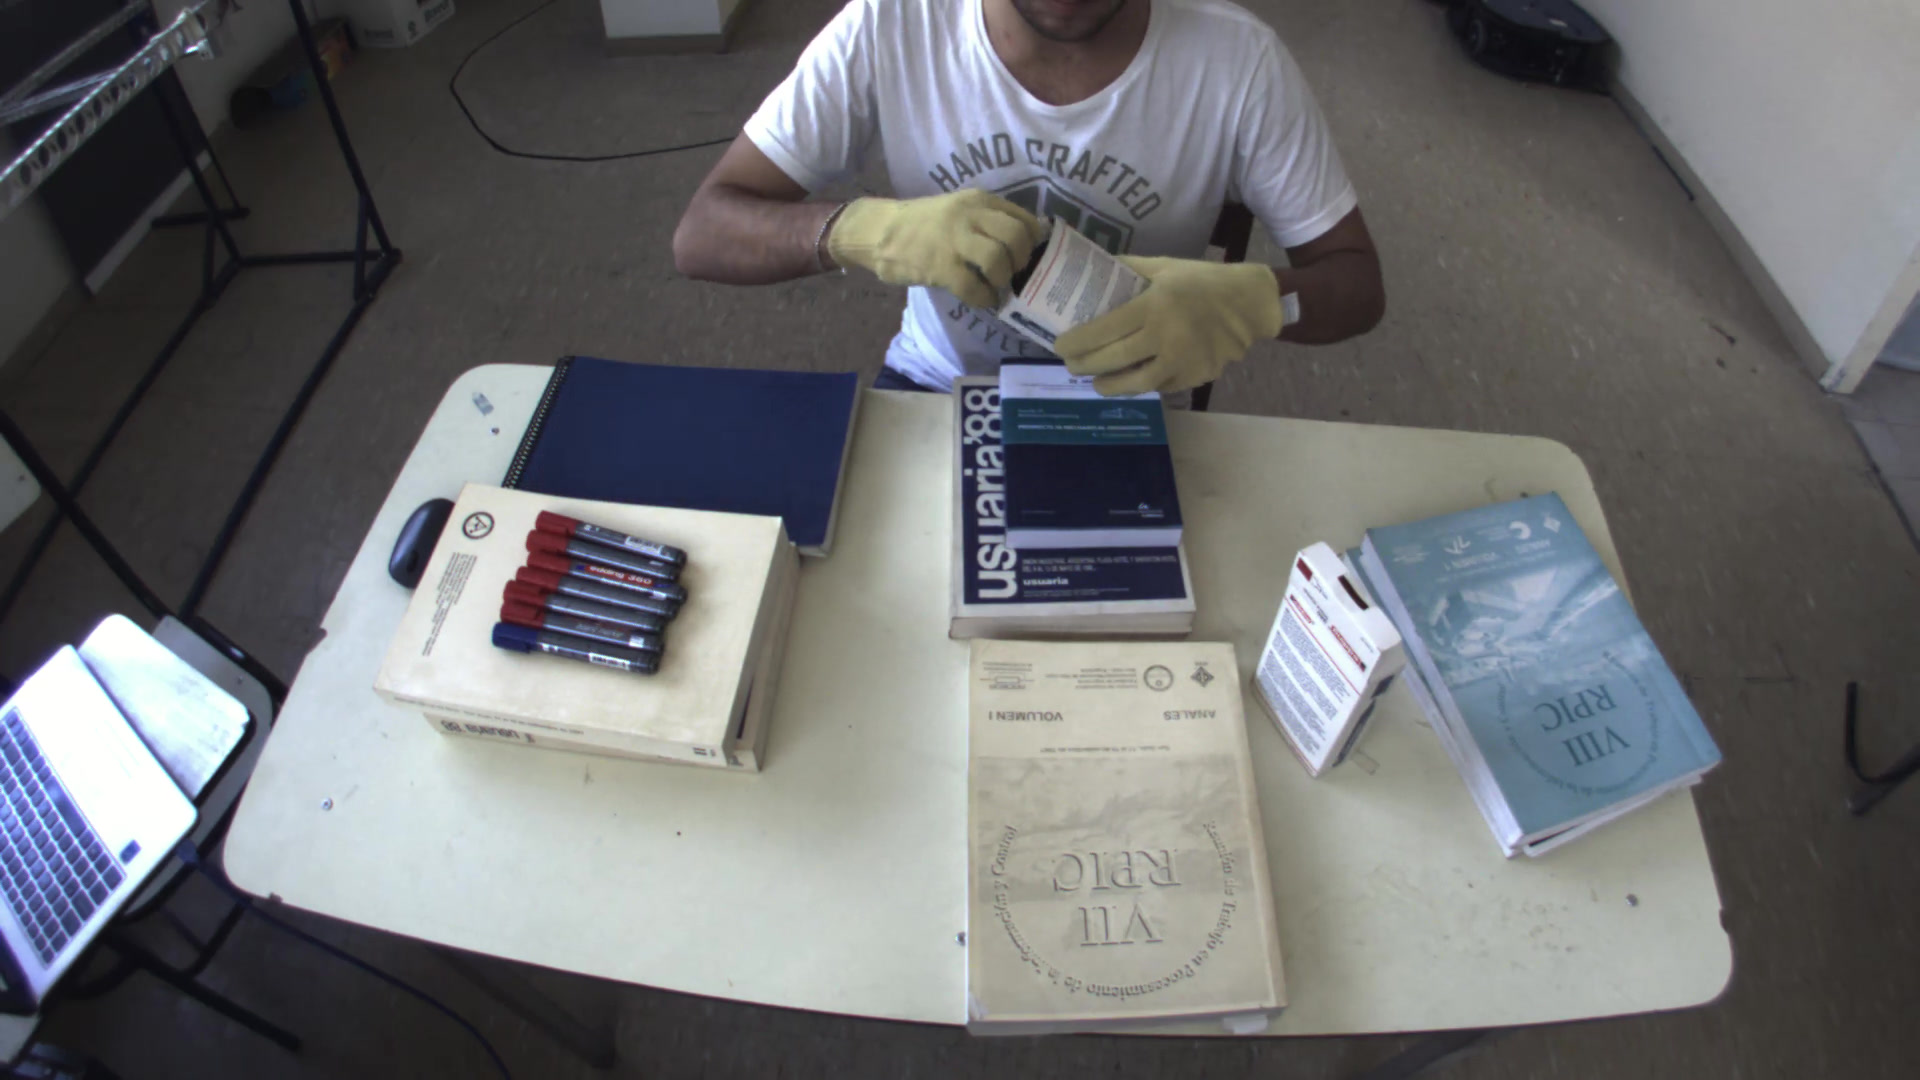hand: (1043, 233, 1299, 404), (822, 171, 1056, 305)
